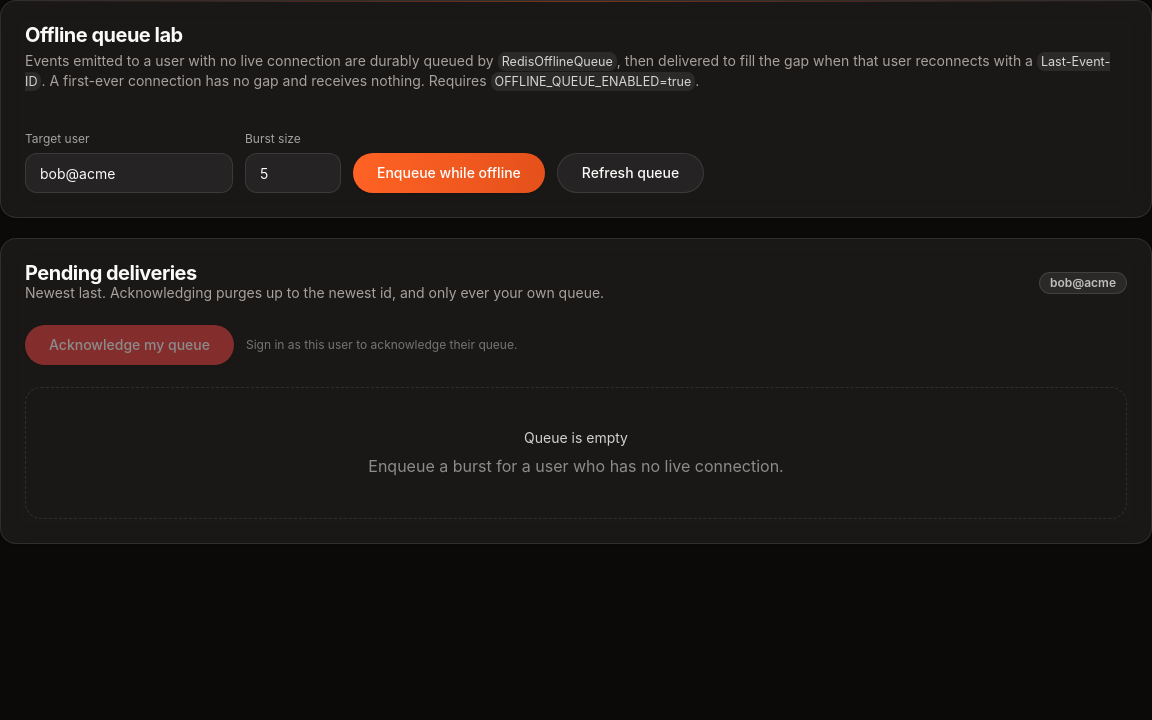
Test: OfflineLabPage › uses the singular when a single event is enqueued
Expected: the text "Queue is empty" is shown, [524,429,628,446]
Step 1. Click the button "Enqueue while offline" → x=449, y=173, box [353,153,545,193]
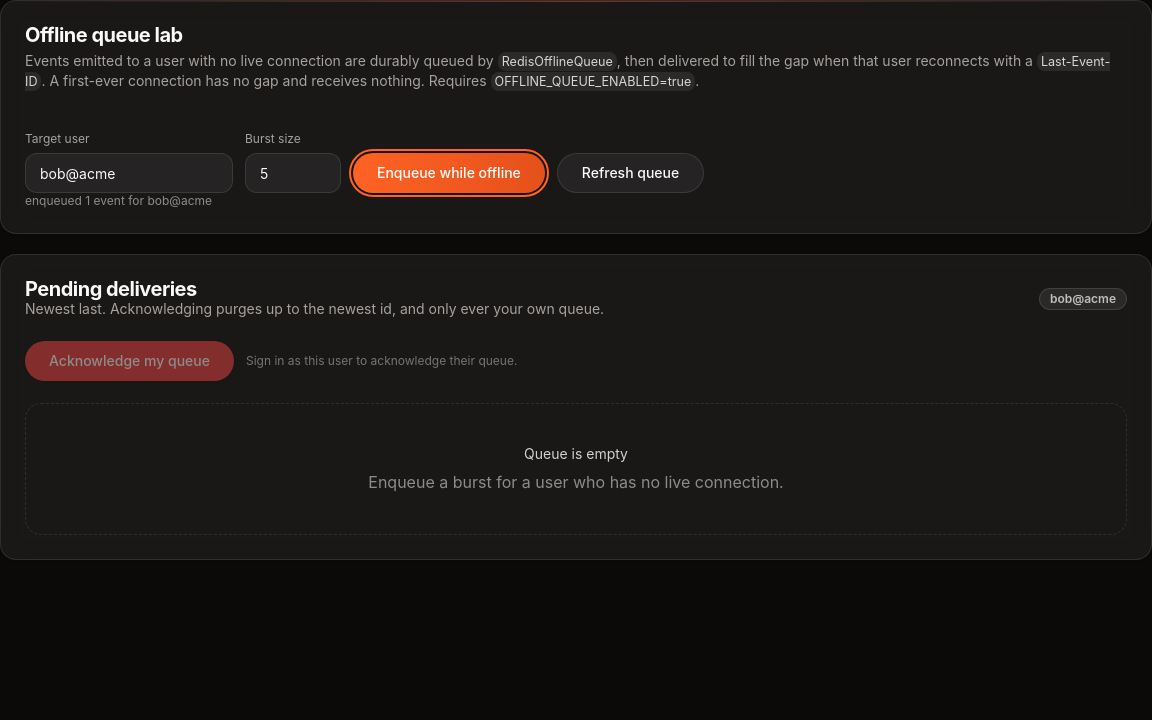
Expected: the text "enqueued 1 event for bob@acme" is shown, [25,193,212,208]
